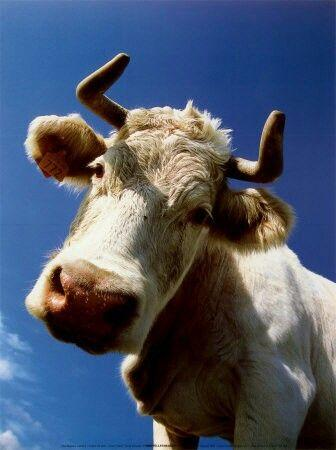cow: (40, 21, 318, 373)
